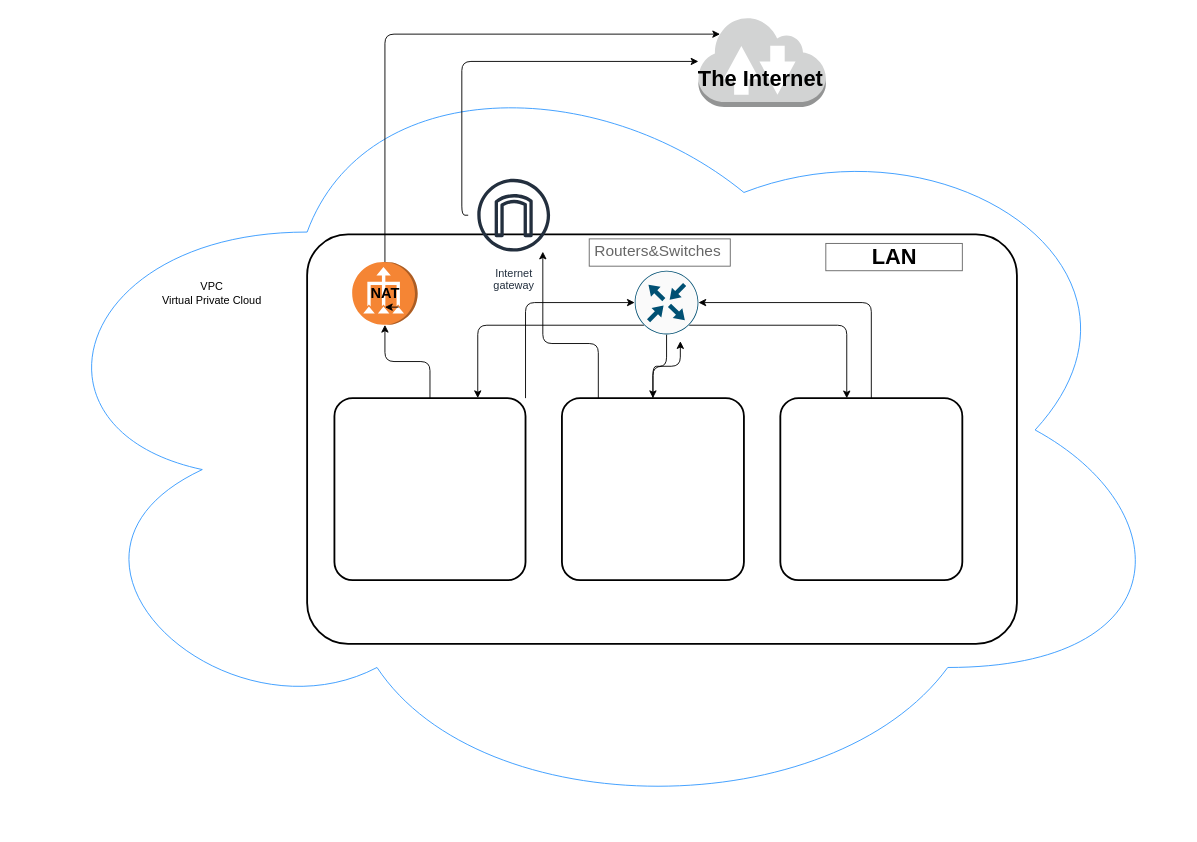
Some shapes in this 1197 by 842 pixel diagram are drawn without their labels. The shapes that lost their labels are listed below. From the top down, each one's centre as x and y in pixels, then its label:
the point at 429,489: Private subnet met internet via NAT. min. 30 hosts 10.0.1.0/27
the point at 652,489: Public Subnet met een Internet gateway min. 5 hosts 10.0.2.0/29
the point at 871,489: Private Subnet. dat alleen bereikbaar is in LAN min 15 hosts 10.0.3.0/28
